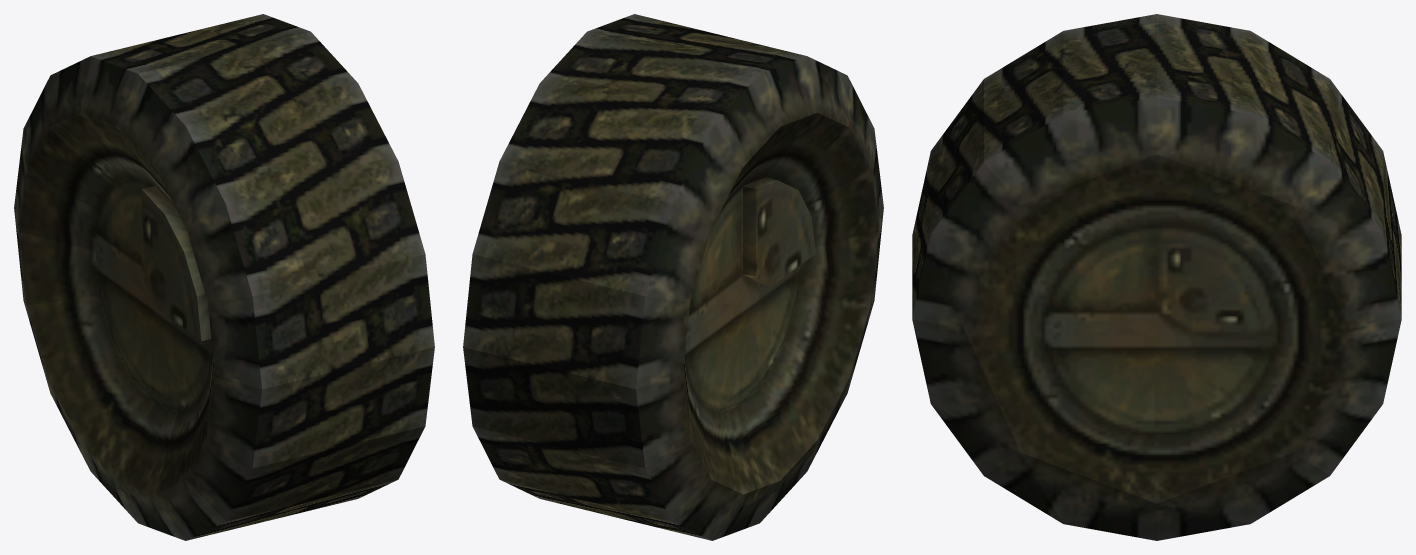
Rendered from warthog_rueda_1.obj.
3 views of the same model, side by side, from view 1: azimuth 30°, elevation 25°; view 2: azimuth 150°, elevation 25°; view 3: azimuth 270°, elevation 25° (orthographic).
Size of the model in its own units: 0.4162 by 0.8353 by 0.8353.
